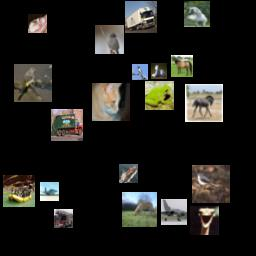airplane: (161, 199, 187, 225), (40, 182, 59, 201)
bird: (14, 64, 52, 102), (192, 165, 230, 203), (95, 25, 124, 54), (190, 206, 219, 235), (132, 64, 148, 80)
cat: (92, 83, 130, 121), (151, 63, 167, 79)
dog: (122, 192, 157, 227), (28, 14, 47, 33)
frog: (145, 81, 174, 110)
ship: (3, 175, 35, 207), (119, 164, 138, 183)
truck: (51, 109, 83, 141), (125, 1, 157, 33), (54, 209, 73, 228)
